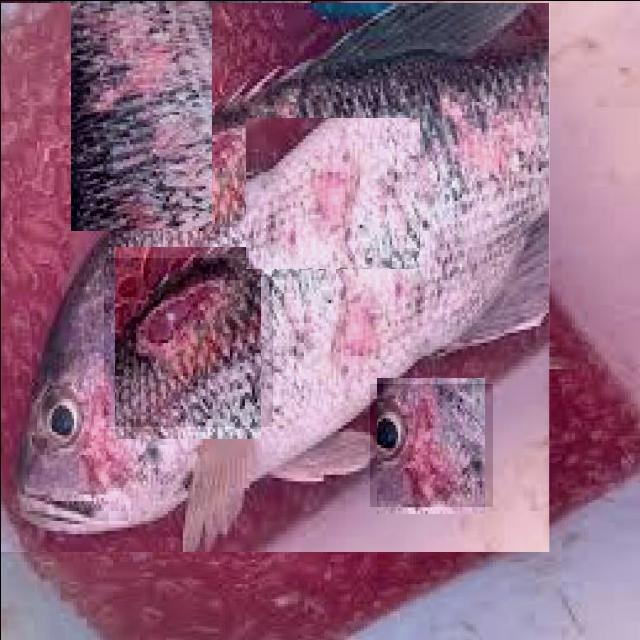EUS Disease: (0, 2, 549, 551), (70, 0, 211, 230), (103, 257, 272, 426), (251, 112, 413, 274), (369, 383, 492, 506)
